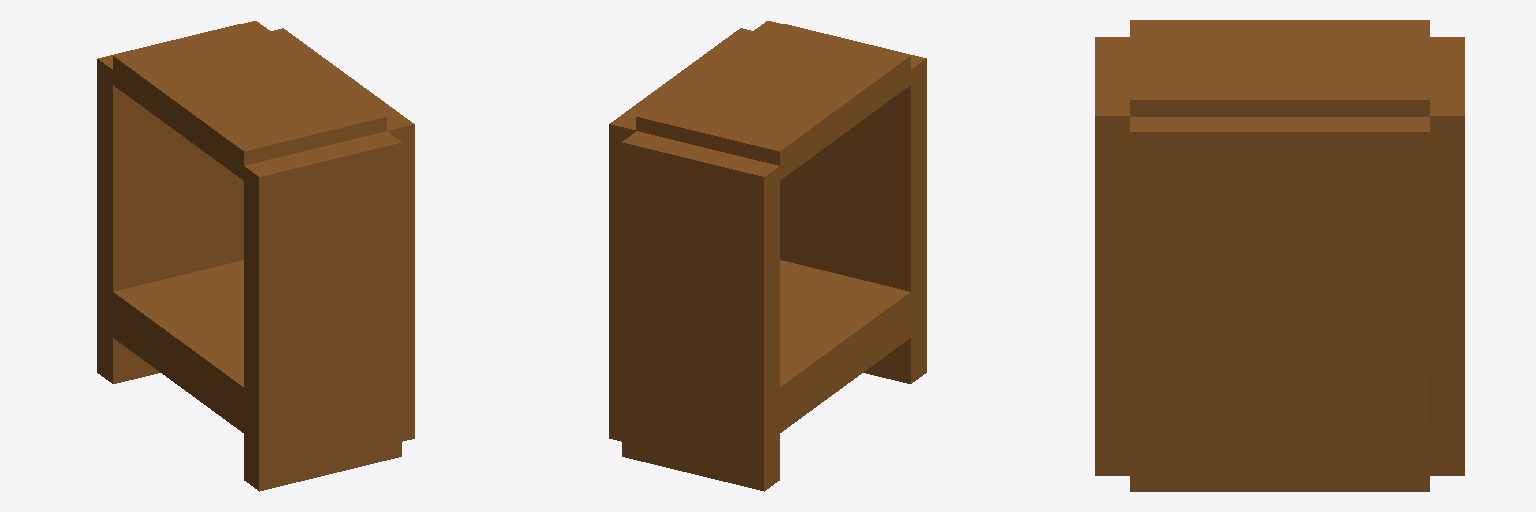
The robot description file, URDF, robot "dummy":
<?xml version="1.0"?>
<robot name="dummy">
  <link name="bottom_wall">
    <visual>
      <origin xyz="0.0 0.0 0.06857522213257855" rpy="0 0 0"/>
      <geometry>
        <mesh filename="bottom_wall.obj" scale="1 1 1"/>
      </geometry>
      <material name="brown">
        <color rgba="0.6 0.4 0.2 1.0"/>
      </material>
    </visual>
    <collision>
      <origin xyz="0.0 0.0 0.06857522213257855" rpy="0 0 0"/>
      <geometry>
        <mesh filename="bottom_wall.obj" scale="1 1 1"/>
      </geometry>
    </collision>
  </link>

  <link name="left_wall">
    <visual>
      <origin xyz="0.0 -0.19485417983964087 0.0" rpy="0 0 0"/>
      <geometry>
        <mesh filename="vertical_wall.obj" scale="1 1 1"/>
      </geometry>
      <material name="brown">
        <color rgba="0.6 0.4 0.2 1.0"/>
      </material>
    </visual>
    <collision>
      <origin xyz="0.0 -0.19485417983964087 0.0" rpy="0 0 0"/>
      <geometry>
        <mesh filename="vertical_wall.obj" scale="1 1 1"/>
      </geometry>
    </collision>
  </link>

  <link name="right_wall">
    <visual>
      <origin xyz="0.0 0.19485417983964087 0.0" rpy="0 0 0"/>
      <geometry>
        <mesh filename="vertical_wall.obj" scale="1 1 1"/>
      </geometry>
      <material name="brown">
        <color rgba="0.6 0.4 0.2 1.0"/>
      </material>
    </visual>
    <collision>
      <origin xyz="0.0 0.19485417983964087 0.0" rpy="0 0 0"/>
      <geometry>
        <mesh filename="vertical_wall.obj" scale="1 1 1"/>
      </geometry>
    </collision>
  </link>

  <link name="back_wall">
    <visual>
      <origin xyz="0.12993779971682295 0.0 0.0" rpy="0 0 0"/>
      <geometry>
        <mesh filename="back_wall.obj" scale="1 1 1"/>
      </geometry>
      <material name="brown">
        <color rgba="0.6 0.4 0.2 1.0"/>
      </material>
    </visual>
    <collision>
      <origin xyz="0.12993779971682295 0.0 0.0" rpy="0 0 0"/>
      <geometry>
        <mesh filename="back_wall.obj" scale="1 1 1"/>
      </geometry>
    </collision>
  </link>

  <link name="top_wall">
    <visual>
      <origin xyz="0.0 0.0 0.4397962719421674" rpy="0 0 0"/>
      <geometry>
        <mesh filename="top_wall.obj" scale="1 1 1"/>
      </geometry>
      <material name="brown">
        <color rgba="0.6 0.4 0.2 1.0"/>
      </material>
    </visual>
    <collision>
      <origin xyz="0.0 0.0 0.4397962719421674" rpy="0 0 0"/>
      <geometry>
        <mesh filename="top_wall.obj" scale="1 1 1"/>
      </geometry>
    </collision>
  </link>

  <joint name="left_wall_joint" type="fixed">
    <origin xyz="0 0 0" rpy="0 0 0"/>
    <parent link="bottom_wall"/>
    <child link="left_wall"/>
  </joint>

  <joint name="right_wall_joint" type="fixed">
    <origin xyz="0 0 0" rpy="0 0 0"/>
    <parent link="bottom_wall"/>
    <child link="right_wall"/>
  </joint>

  <joint name="back_wall_joint" type="fixed">
    <origin xyz="0 0 0" rpy="0 0 0"/>
    <parent link="bottom_wall"/>
    <child link="back_wall"/>
  </joint>

  <joint name="top_wall_joint" type="fixed">
    <origin xyz="0 0 0" rpy="0 0 0"/>
    <parent link="bottom_wall"/>
    <child link="top_wall"/>
  </joint>

</robot>

--- What the picture shows (computed from the rendered views, not written in the file) ---
Views: 3 orthographic renders of the robot side by side, from view 1: azimuth 30°, elevation 25°; view 2: azimuth 150°, elevation 25°; view 3: azimuth 270°, elevation 25°.
Robot: dummy — 5 links, 4 joints (4 fixed); root link bottom_wall; default pose: all joints at 0.
Visible links, largest first — view 1: left_wall, right_wall, top_wall, bottom_wall, back_wall; view 2: right_wall, left_wall, top_wall, bottom_wall, back_wall; view 3: back_wall, top_wall, left_wall, right_wall.
Boxes of the visible links, x1,y1,x2,y2 form: left_wall: [244, 131, 401, 491]; right_wall: [97, 24, 243, 383]; top_wall: [113, 21, 386, 180]; bottom_wall: [113, 260, 243, 432]; back_wall: [271, 28, 414, 441]; right_wall: [622, 131, 779, 491]; left_wall: [780, 24, 926, 383]; top_wall: [636, 21, 910, 179]; bottom_wall: [780, 260, 910, 432]; back_wall: [609, 28, 752, 441]; back_wall: [1130, 117, 1429, 491]; top_wall: [1130, 20, 1429, 116]; left_wall: [1095, 37, 1129, 475]; right_wall: [1430, 37, 1464, 475].
Size in the robot's own frame: 0.2625 by 0.432 by 0.4832 metres.
5 mesh visuals loaded from 4 distinct referenced files (4 OBJ).
